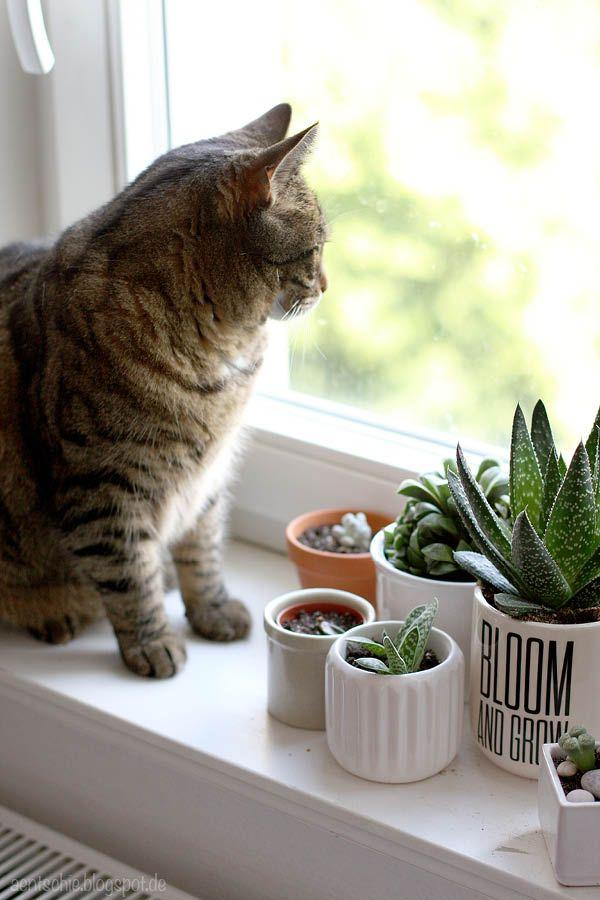kedo: (5, 95, 327, 681)
